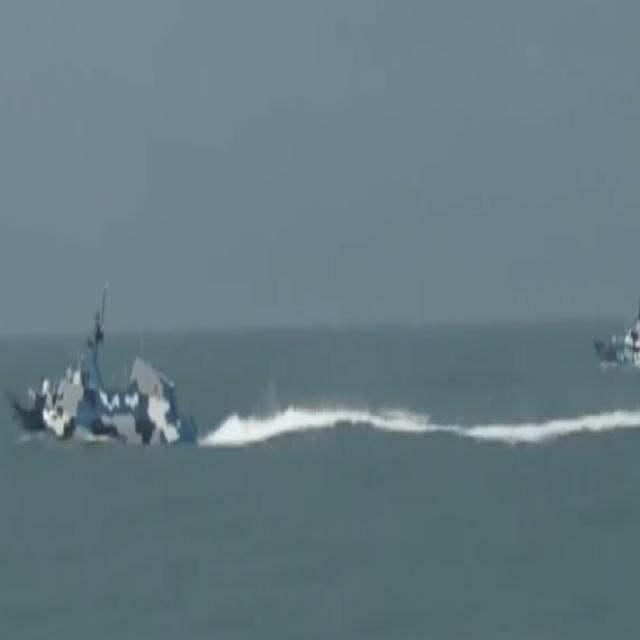houseboat: (10, 277, 197, 459), (594, 284, 640, 378)
